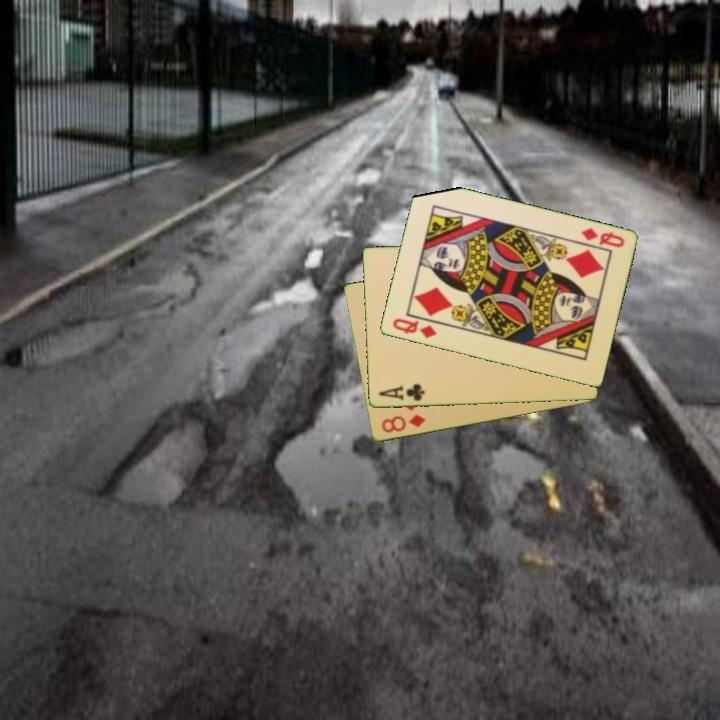8d: (378, 411, 428, 436)
Ac: (375, 381, 427, 404)
Qd: (577, 224, 627, 251), (389, 315, 439, 341)
